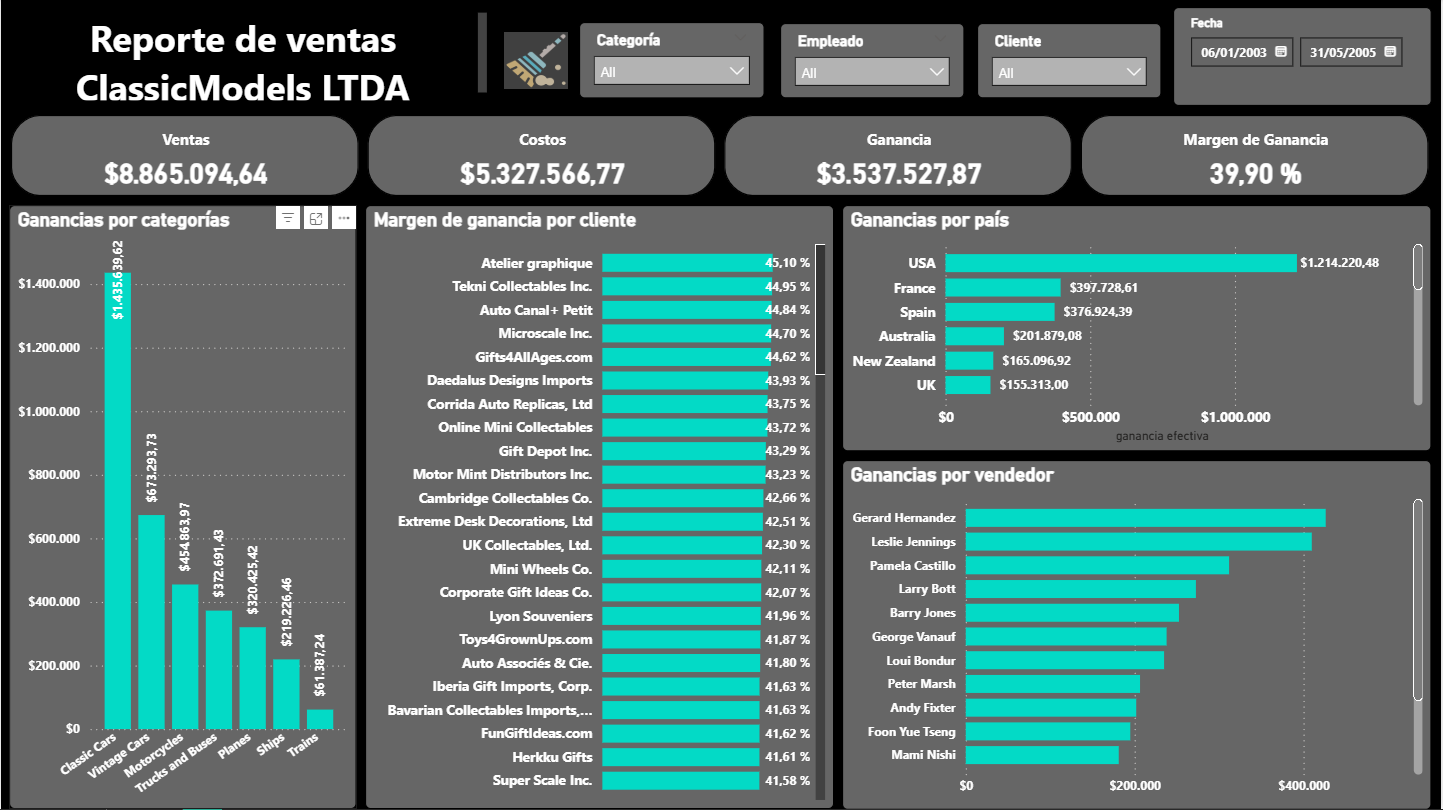

What the dashboard file says about the page in this screenshot:
{"tool":"powerbi","page":{"name":"ventas","canvas":[1280,720],"ordinal":0},"visuals":[{"type":"cardVisual","fields":{"Data":["sales.ventas efectivas","sales.costos efectivos","sales.ganancia efectiva","sales.margen de ganancia efectivo"]},"box":[0.9,95.1,1279.1,88],"z":0},{"type":"columnChart","title":"Ganancias por categorías","fields":{"Y":["sales.ganancia efectiva"],"Category":["sales.categoría"]},"box":[7.2,183.1,308.8,536.9],"z":1000},{"type":"barChart","title":"Ganancias por país","fields":{"Category":["sales.parís"],"Y":["sales.ganancia efectiva"]},"box":[747.8,183.1,524.3,219.1],"z":2000},{"type":"barChart","title":"Margen de ganancia por cliente","fields":{"Category":["sales.cliente"],"Y":["sales.margen de ganancia efectivo"]},"box":[323.2,183.1,416.6,536.9],"z":3000},{"type":"barChart","title":"Ganancias por vendedor","fields":{"Y":["sales.ganancia efectiva"],"Category":["sales.empleado"]},"box":[747.8,409.4,524.3,310.6],"z":4000},{"type":"slicer","fields":{"Values":["sales.fecha"]},"box":[1041.8,7.1,230.2,88],"z":5000},{"type":"slicer","fields":{"Values":["sales.categoría"]},"box":[513.8,20.4,165.3,67.6],"z":6000},{"type":"slicer","fields":{"Values":["sales.empleado"]},"box":[692.4,21.3,164.4,66.7],"z":7000},{"type":"slicer","fields":{"Values":["sales.cliente"]},"box":[867.6,21.3,164.4,66.7],"z":8000},{"type":"actionButton","box":[447.1,29.3,56.9,50.7],"z":9000},{"type":"textbox","box":[0.9,7.1,435.6,88],"z":10000}]}

Visuals, with their boxes in screenshot pixels (x1, y1, x2, y2), scaled from the page's 1280x720 canvas onto the 1443x810 screenshot:
cardVisual - sales.ventas efectivas x sales.costos efectivos: [x1=1, y1=107, x2=1442, y2=206]
"Ganancias por categorías" columnChart: [x1=8, y1=206, x2=356, y2=809]
"Ganancias por país" barChart: [x1=843, y1=206, x2=1434, y2=452]
"Margen de ganancia por cliente" barChart: [x1=364, y1=206, x2=834, y2=809]
"Ganancias por vendedor" barChart: [x1=843, y1=461, x2=1434, y2=809]
slicer - sales.fecha: [x1=1174, y1=8, x2=1434, y2=107]
slicer - sales.categoría: [x1=579, y1=23, x2=766, y2=99]
slicer - sales.empleado: [x1=781, y1=24, x2=966, y2=99]
slicer - sales.cliente: [x1=978, y1=24, x2=1163, y2=99]
actionButton: [x1=504, y1=33, x2=568, y2=90]
textbox: [x1=1, y1=8, x2=492, y2=107]
